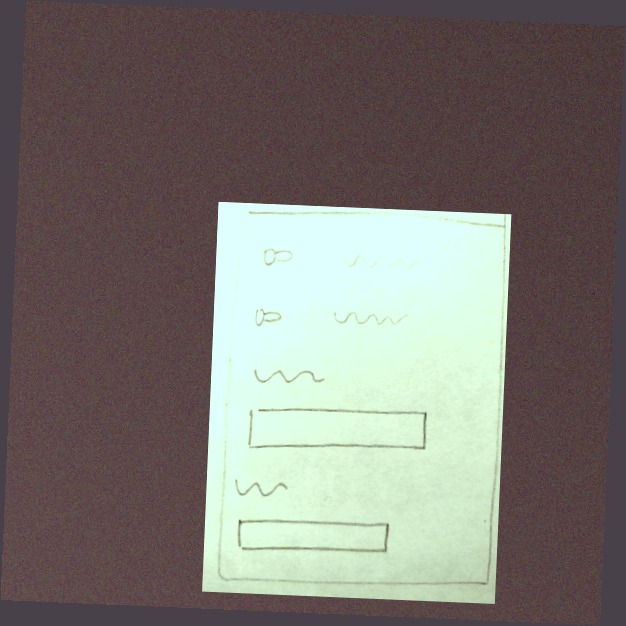switch: (257, 240, 296, 271), (250, 300, 288, 331)
text: (337, 245, 421, 281), (329, 301, 413, 337), (247, 355, 331, 391), (225, 468, 294, 504)
text_input: (241, 399, 434, 461), (232, 513, 392, 558)
